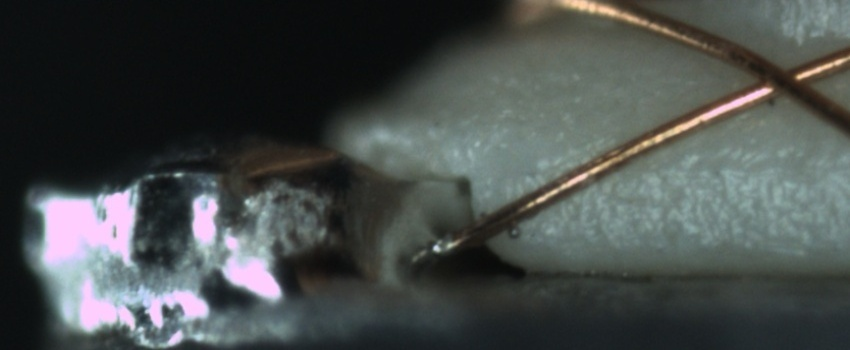CL: (729, 44, 831, 109)
DL: (627, 137, 850, 195)
